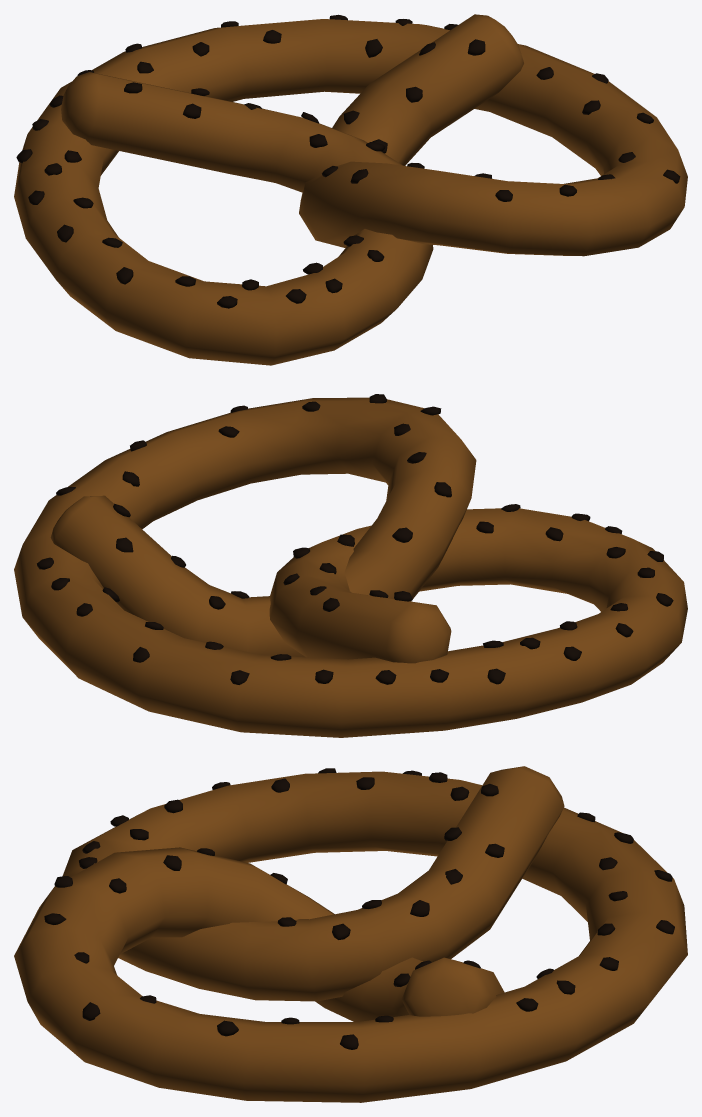
File: Pretzel.FBX
3 views of the same model, one above another, from view 1: azimuth 30°, elevation 25°; view 2: azimuth 150°, elevation 25°; view 3: azimuth 270°, elevation 25° (orthographic). The views are drawn at different scales.
Parts seen in each view (by area): view 1: Pretzel; view 2: Pretzel; view 3: Pretzel.
Boxes of the visible parts, bbox=[...] form: Pretzel: bbox=[14, 14, 687, 365]; Pretzel: bbox=[14, 394, 687, 737]; Pretzel: bbox=[14, 766, 687, 1102].
Size of the model in its own units: 1062 by 1003 by 278.
